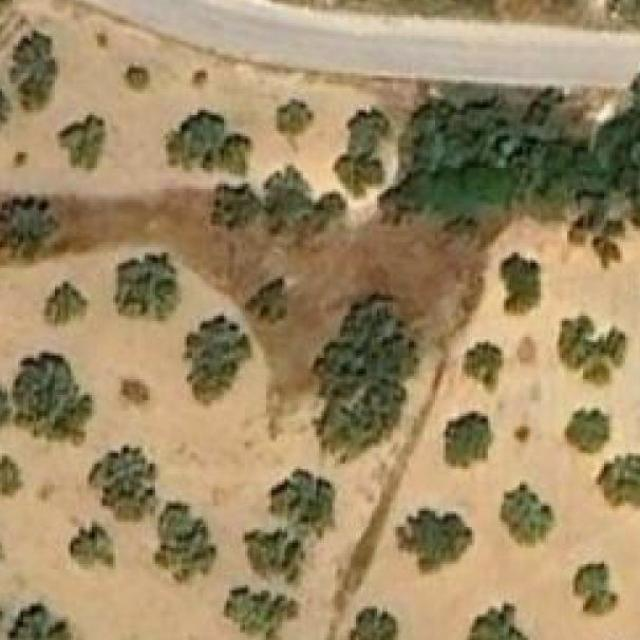Tree: (312, 292, 424, 456), (399, 81, 562, 165), (575, 73, 640, 208), (15, 347, 94, 450), (405, 166, 506, 230), (184, 312, 250, 406), (165, 110, 252, 178), (509, 140, 583, 218), (86, 446, 158, 525), (559, 305, 625, 390), (331, 110, 393, 197), (395, 506, 474, 574), (152, 504, 216, 583), (274, 469, 340, 535), (113, 252, 176, 321), (224, 585, 296, 640), (498, 480, 556, 548), (0, 194, 60, 258), (10, 30, 57, 110), (261, 170, 314, 231), (443, 411, 493, 472), (57, 112, 105, 173), (498, 252, 540, 319), (572, 558, 620, 616), (213, 182, 264, 234), (248, 532, 304, 578), (596, 453, 640, 511), (7, 603, 71, 640), (272, 94, 314, 150), (68, 519, 115, 569), (469, 603, 530, 640), (464, 340, 504, 396), (564, 409, 611, 454), (44, 282, 86, 327), (245, 279, 287, 324), (348, 606, 400, 640), (0, 455, 21, 495), (120, 379, 150, 406), (124, 65, 150, 92), (0, 377, 11, 435), (192, 70, 208, 88), (511, 427, 530, 442), (0, 0, 13, 12)
